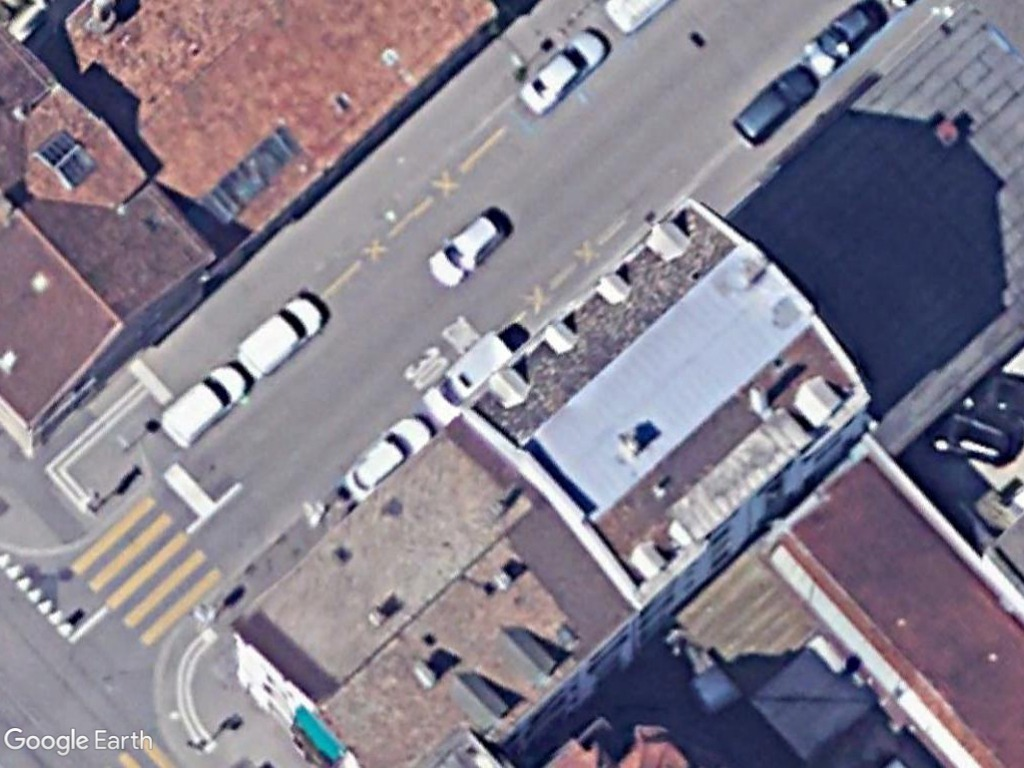car: (341, 411, 435, 504), (512, 30, 610, 117), (730, 62, 822, 148), (423, 209, 507, 290)
van: (418, 325, 515, 429), (232, 288, 331, 380), (159, 364, 247, 452)
